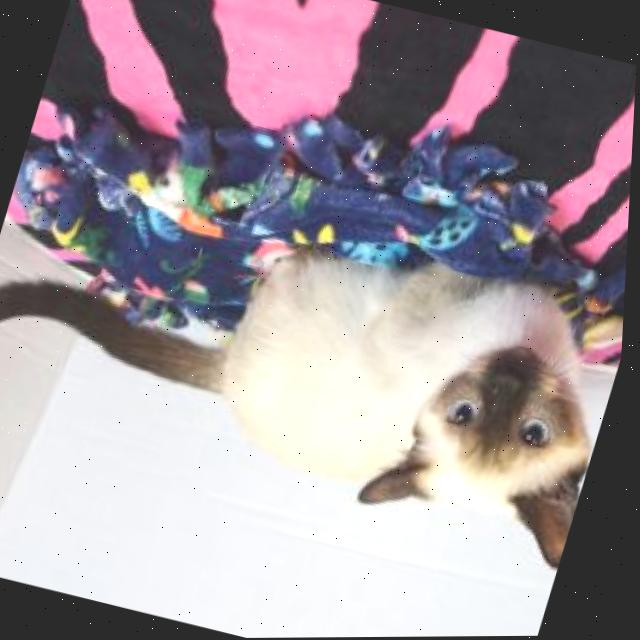Siamese: (0, 153, 634, 582)
